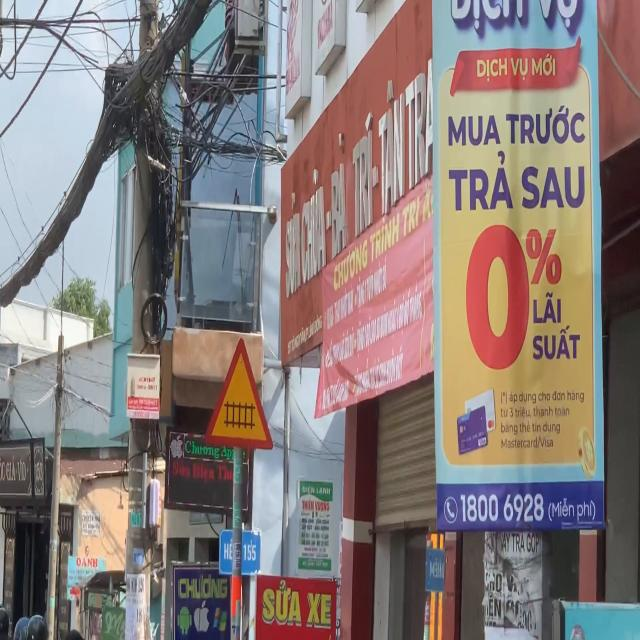Nguy hiem: (198, 325, 278, 462)
